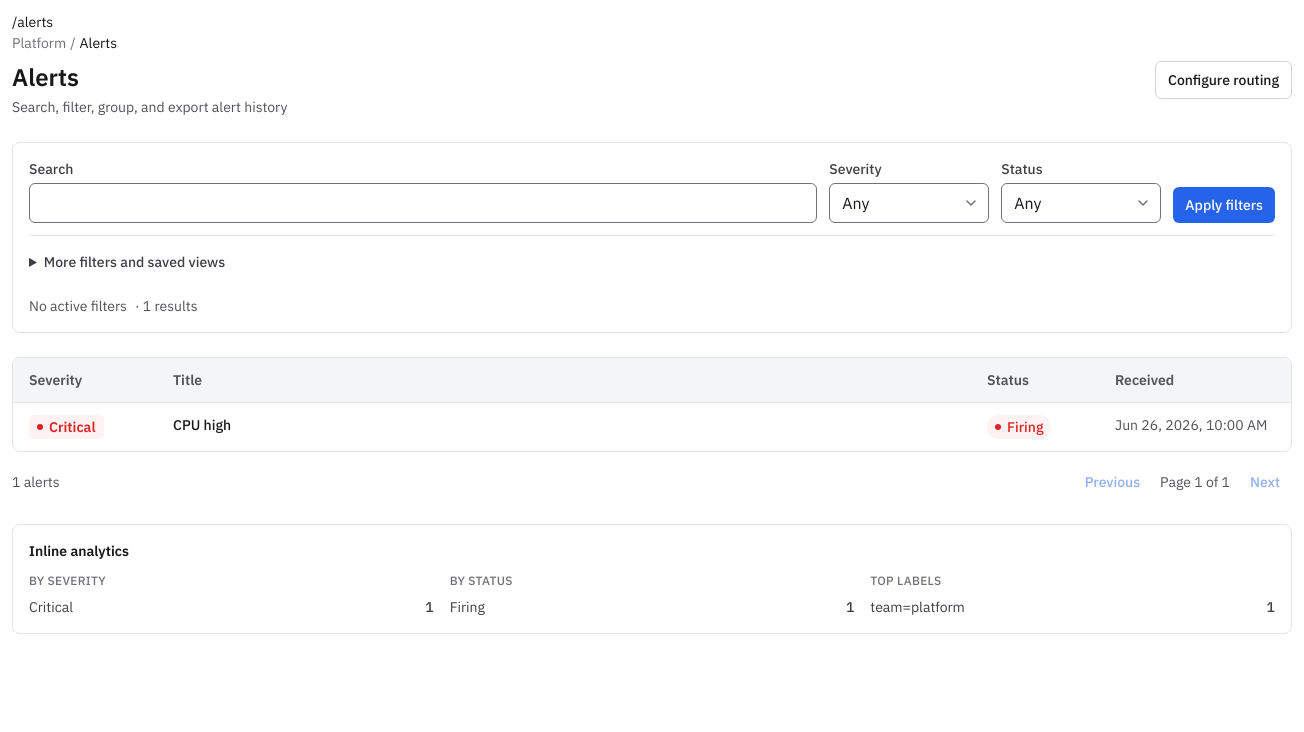
Test: AlertsPage › toasts and stays on alerts when workspaces fail to load
Expected: the text "CPU high" is shown, [173,416,231,434]
Click the button "Configure routing" at (1224, 80), box [1155,61,1292,99]
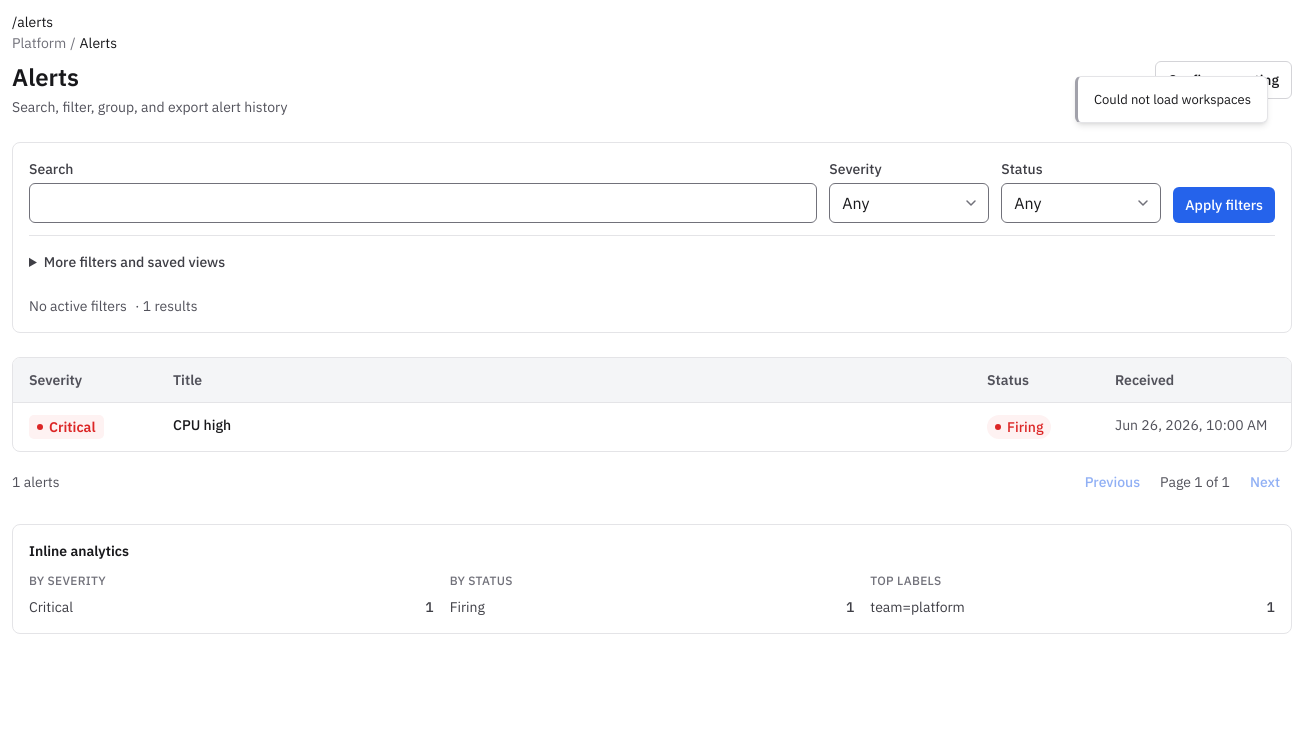
Expected: the text with test id "location-path" reads "/alerts", [12,13,53,31]
Expected: the text "Could not load workspaces" is shown, [1075,76,1268,123]
